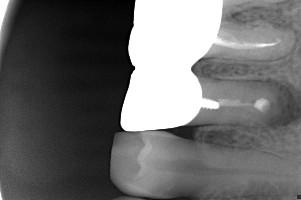Furcation Involvement: (267, 81, 301, 127)
